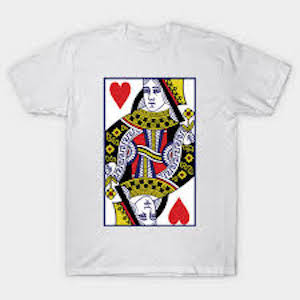QueenOfHearts: (91, 68, 201, 234)
